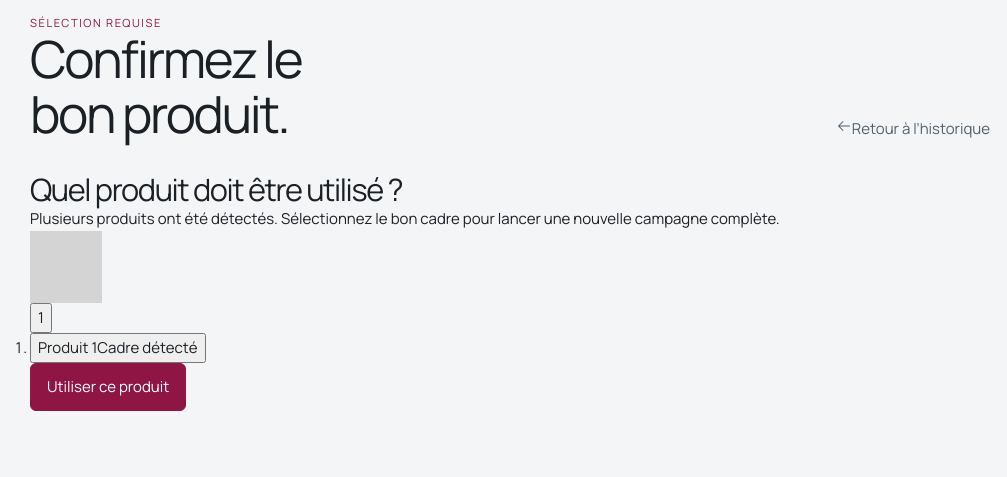
Test: generation status › reuses the candidate idempotency key when a successful response is lost
Later steps or results of the test are not shown.
Click the radio button named "produit possible 1": (41, 318) 30,303 -> 52,333
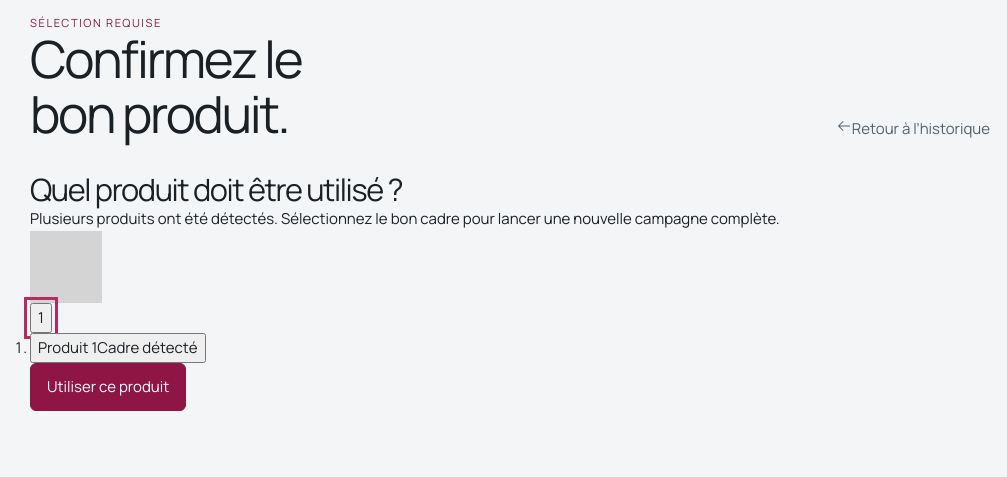
Click the button "Utiliser ce produit": (108, 387) 30,363 -> 186,411
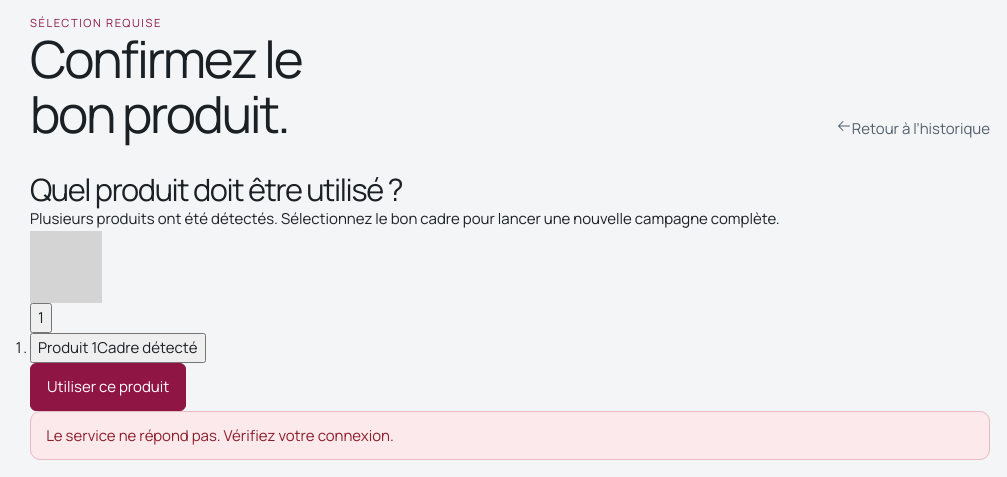
expect the message "Le service ne répond pas. Vérifiez votre connexion." is shown: met, box 30,411 -> 990,460
